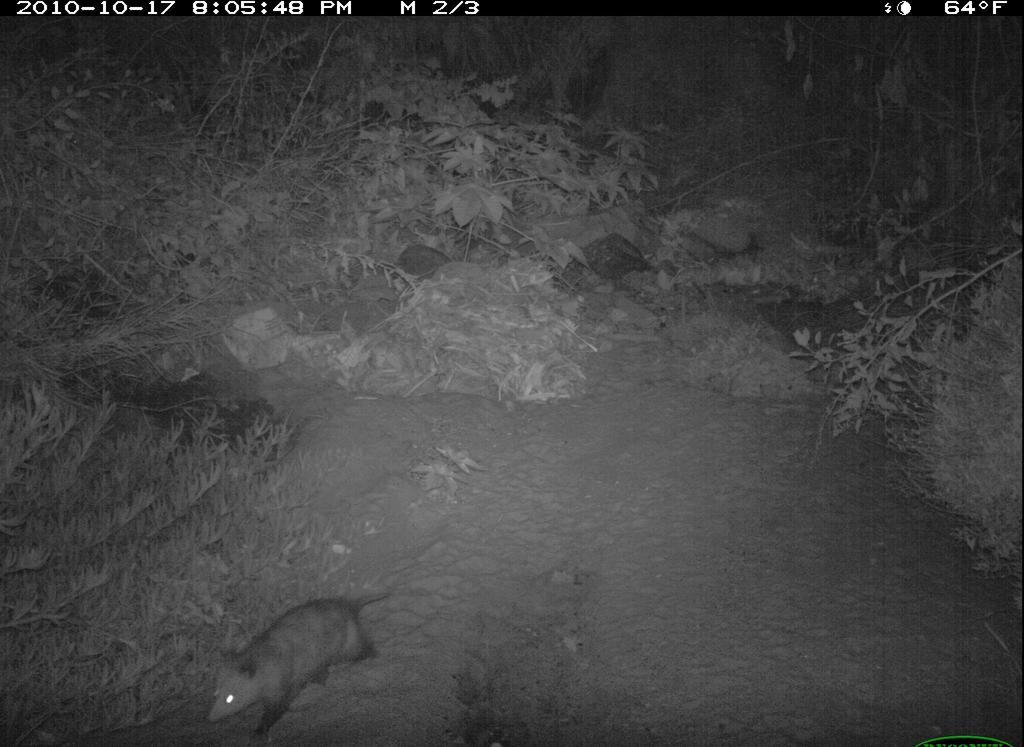opossum: (191, 575, 396, 745)
